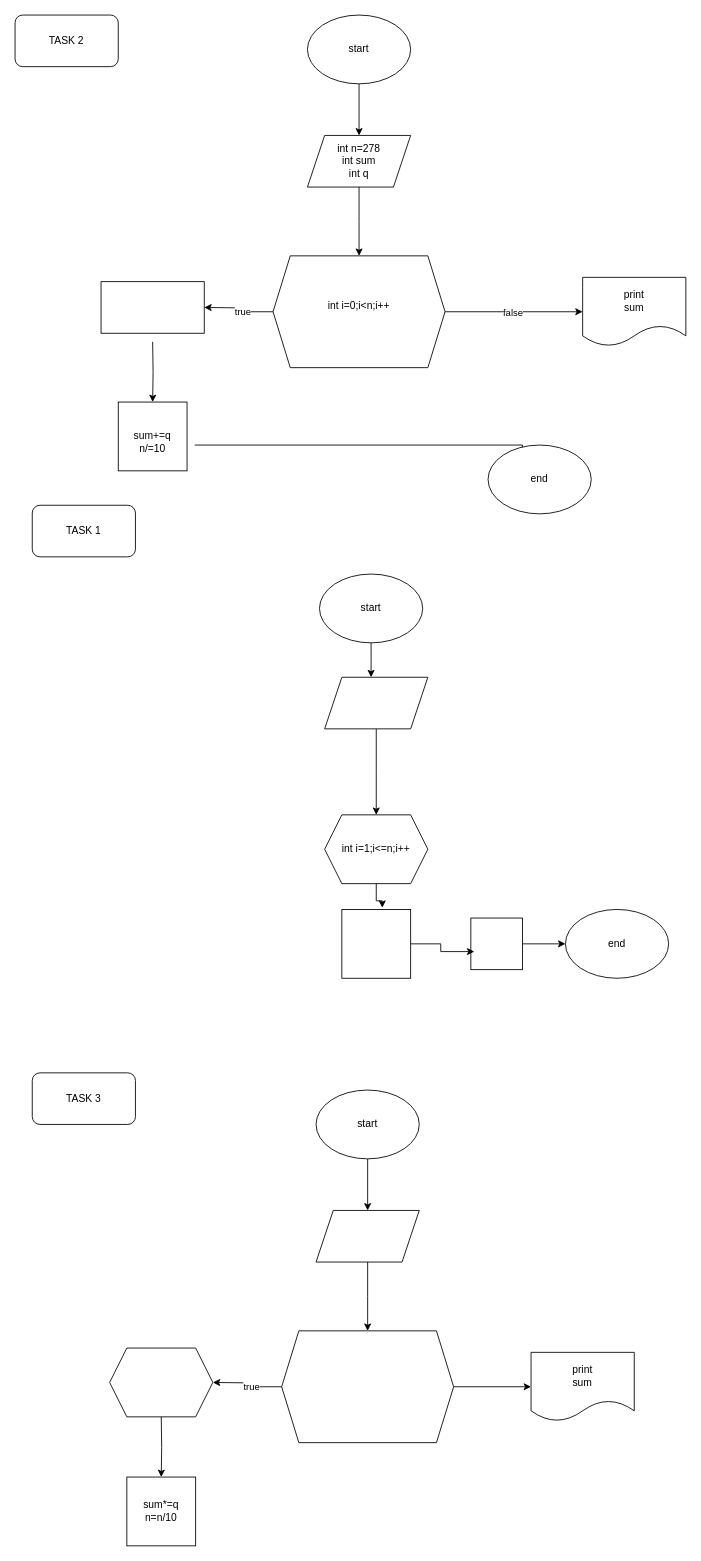
This 701x1561 diagram has some shape labels left out. Each missing label, with the box of its shape:
f*=i: (341, 909, 411, 978)
int i int sum int f: (324, 676, 428, 729)
int i=1;i<n;i++: (281, 1330, 454, 1443)
int n=38 int sum int q: (315, 1210, 419, 1262)
n=n%10: (109, 1347, 213, 1417)
q=n%10: (100, 281, 204, 333)
sum=f: (470, 917, 522, 970)
